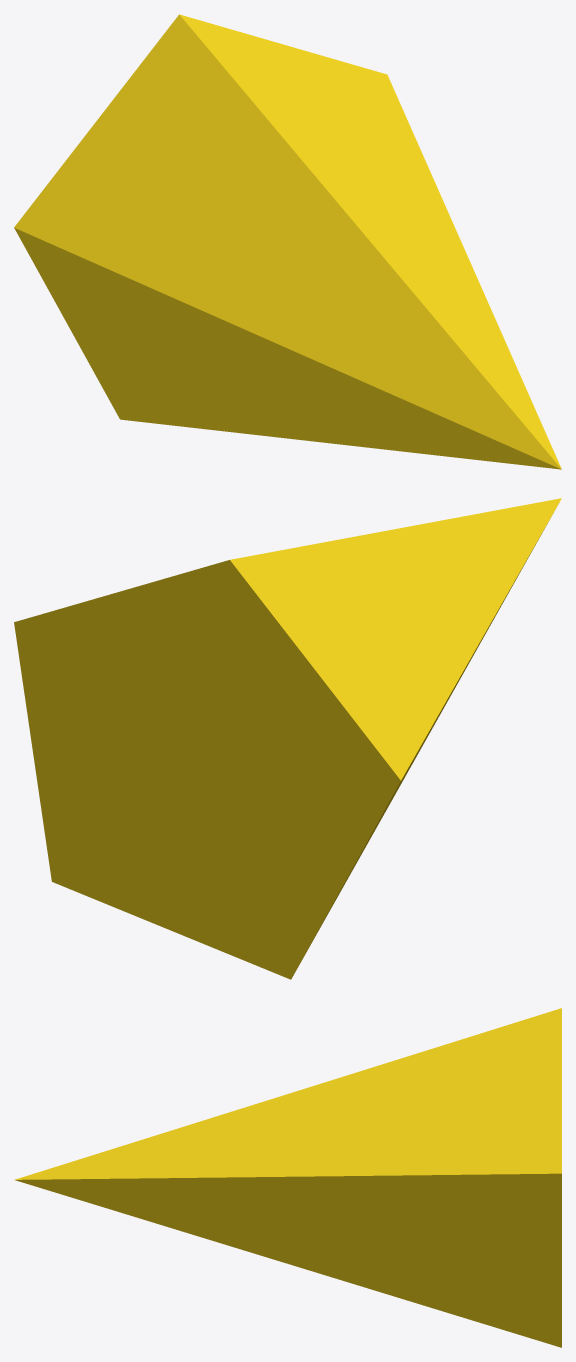
The picture shows the model from 3 angles, top to bottom: view 1: azimuth 30°, elevation 25°; view 2: azimuth 150°, elevation 25°; view 3: azimuth 270°, elevation 25°; orthographic projection. The views are drawn at different scales.
Visible parts, largest first — view 1: group_16768282; view 2: group_16768282; view 3: group_16768282.
Boxes of the visible parts, <box> form: group_16768282: <box>14,14,561,469</box>; group_16768282: <box>14,498,561,979</box>; group_16768282: <box>14,1008,561,1347</box>.
Bounding box in the file's own units: 39.85 × 39.85 × 65.
